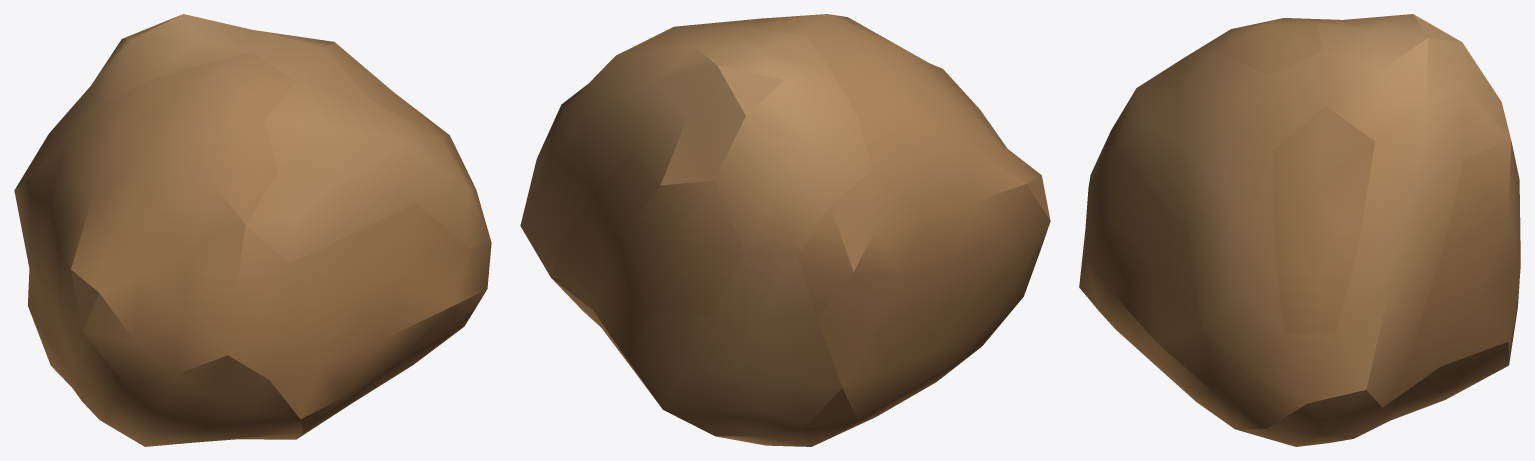
The model's file is Rock_3_R_Color5.fbx.
3 renders of one model, left to right at view 1: azimuth 30°, elevation 25°; view 2: azimuth 150°, elevation 25°; view 3: azimuth 270°, elevation 25°, orthographic. The views are drawn at different scales.
Parts seen in each view (by area): view 1: Rock_3_R_Color5; view 2: Rock_3_R_Color5; view 3: Rock_3_R_Color5.
Boxes of the visible parts, <box> form: Rock_3_R_Color5: <box>14,14,491,446</box>; Rock_3_R_Color5: <box>520,14,1050,446</box>; Rock_3_R_Color5: <box>1079,14,1520,446</box>.
Size of the model in its own units: 5.16 by 3.85 by 4.21.
